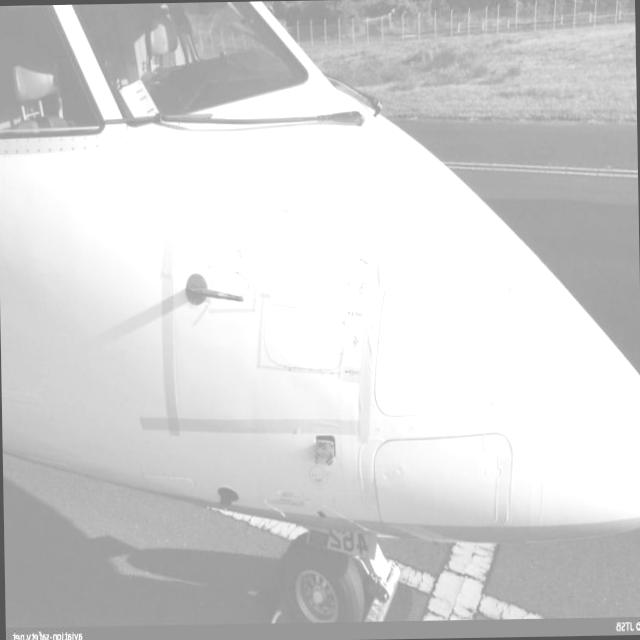dent: (271, 304, 336, 370)
